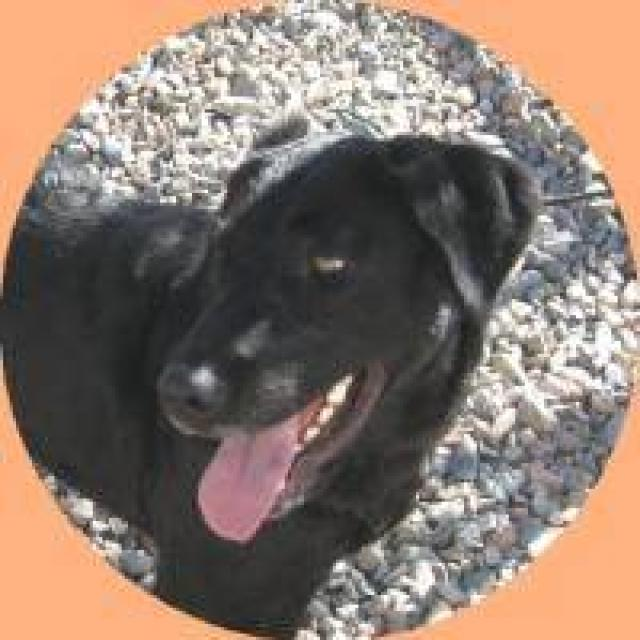cat: (0, 93, 592, 640)
